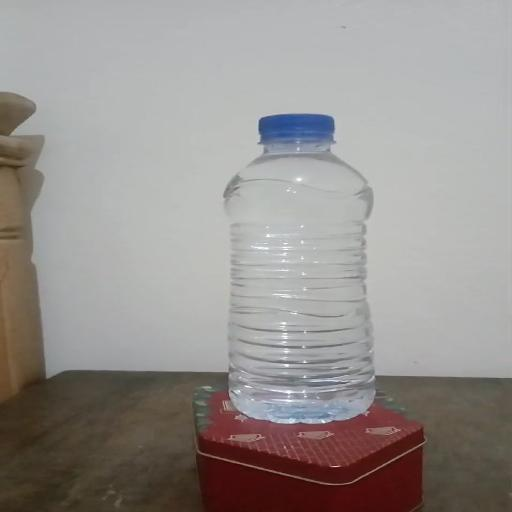bouteille non conformite: (196, 109, 446, 430)
